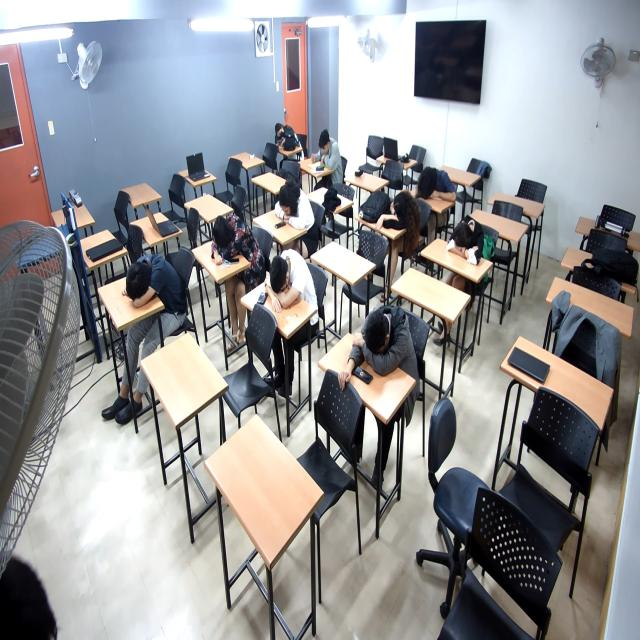sleep: (345, 305, 421, 378), (121, 258, 187, 307), (266, 253, 323, 307), (274, 186, 328, 242), (210, 216, 269, 267), (445, 217, 486, 272), (377, 191, 419, 241), (414, 162, 461, 200), (272, 121, 303, 153)
